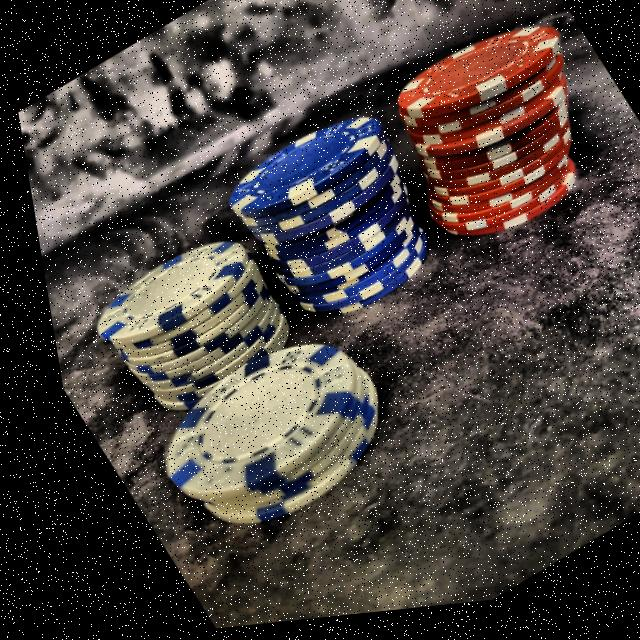Chip: (87, 290, 429, 590), (332, 0, 640, 288), (186, 80, 469, 362), (47, 199, 318, 451)
